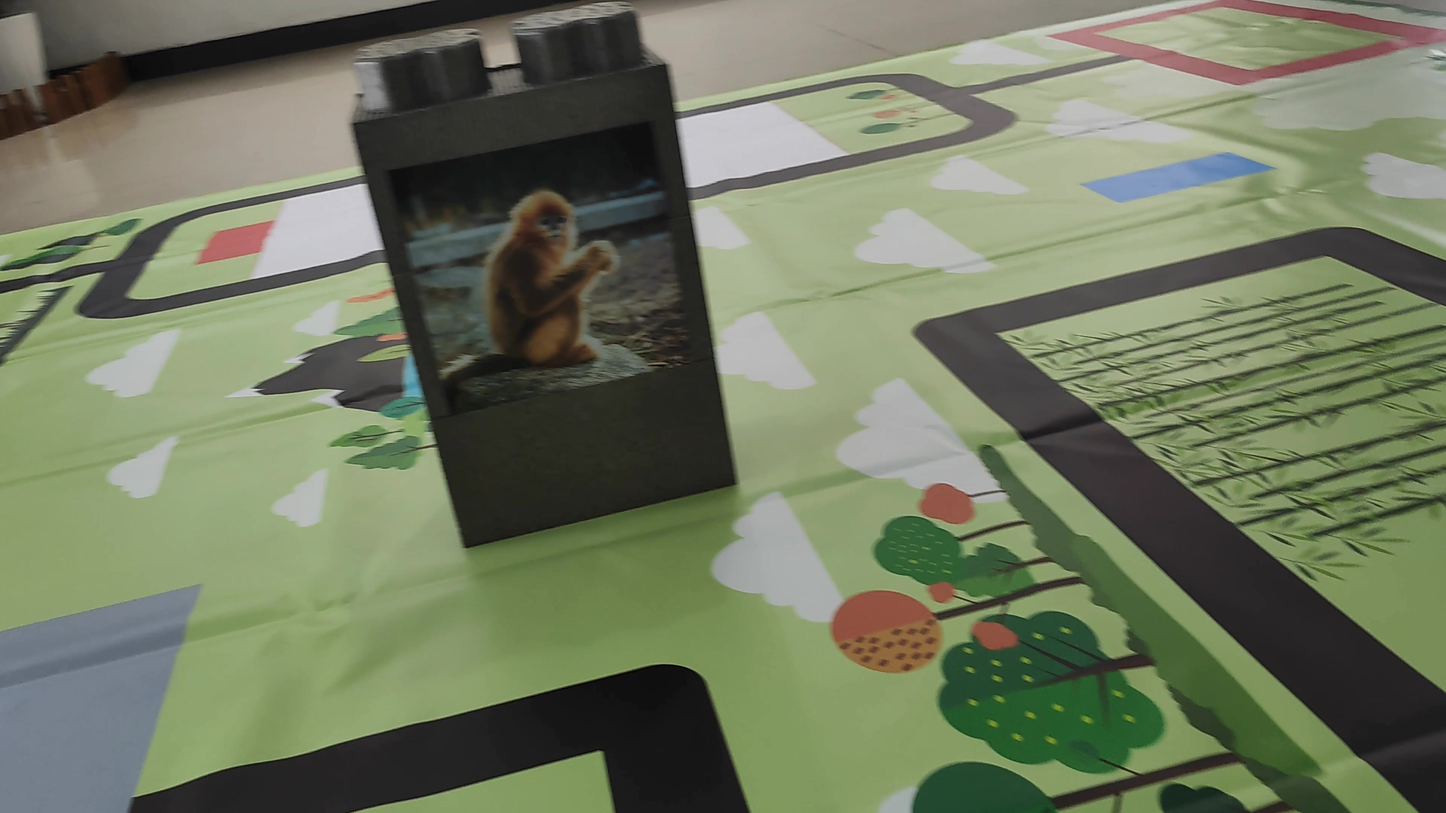monkey: (430, 171, 625, 425)
